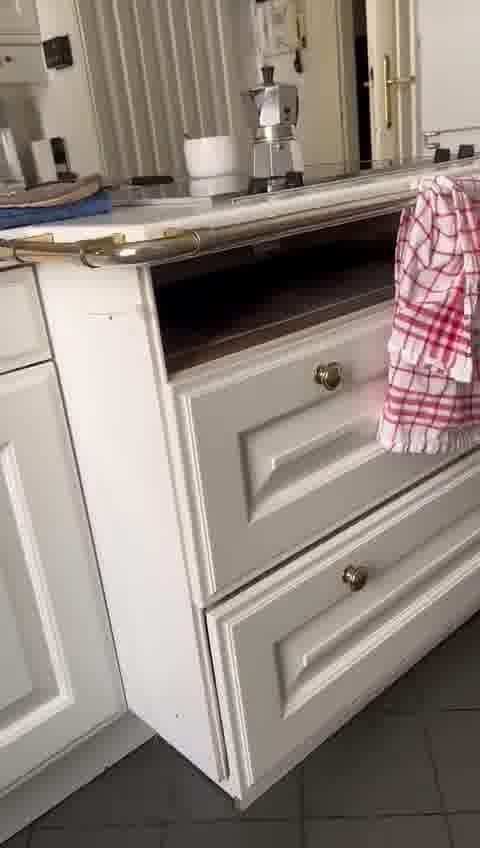cabinet_door: (182, 325, 480, 519), (207, 519, 478, 726)
handle: (338, 561, 372, 606), (312, 354, 347, 397)
